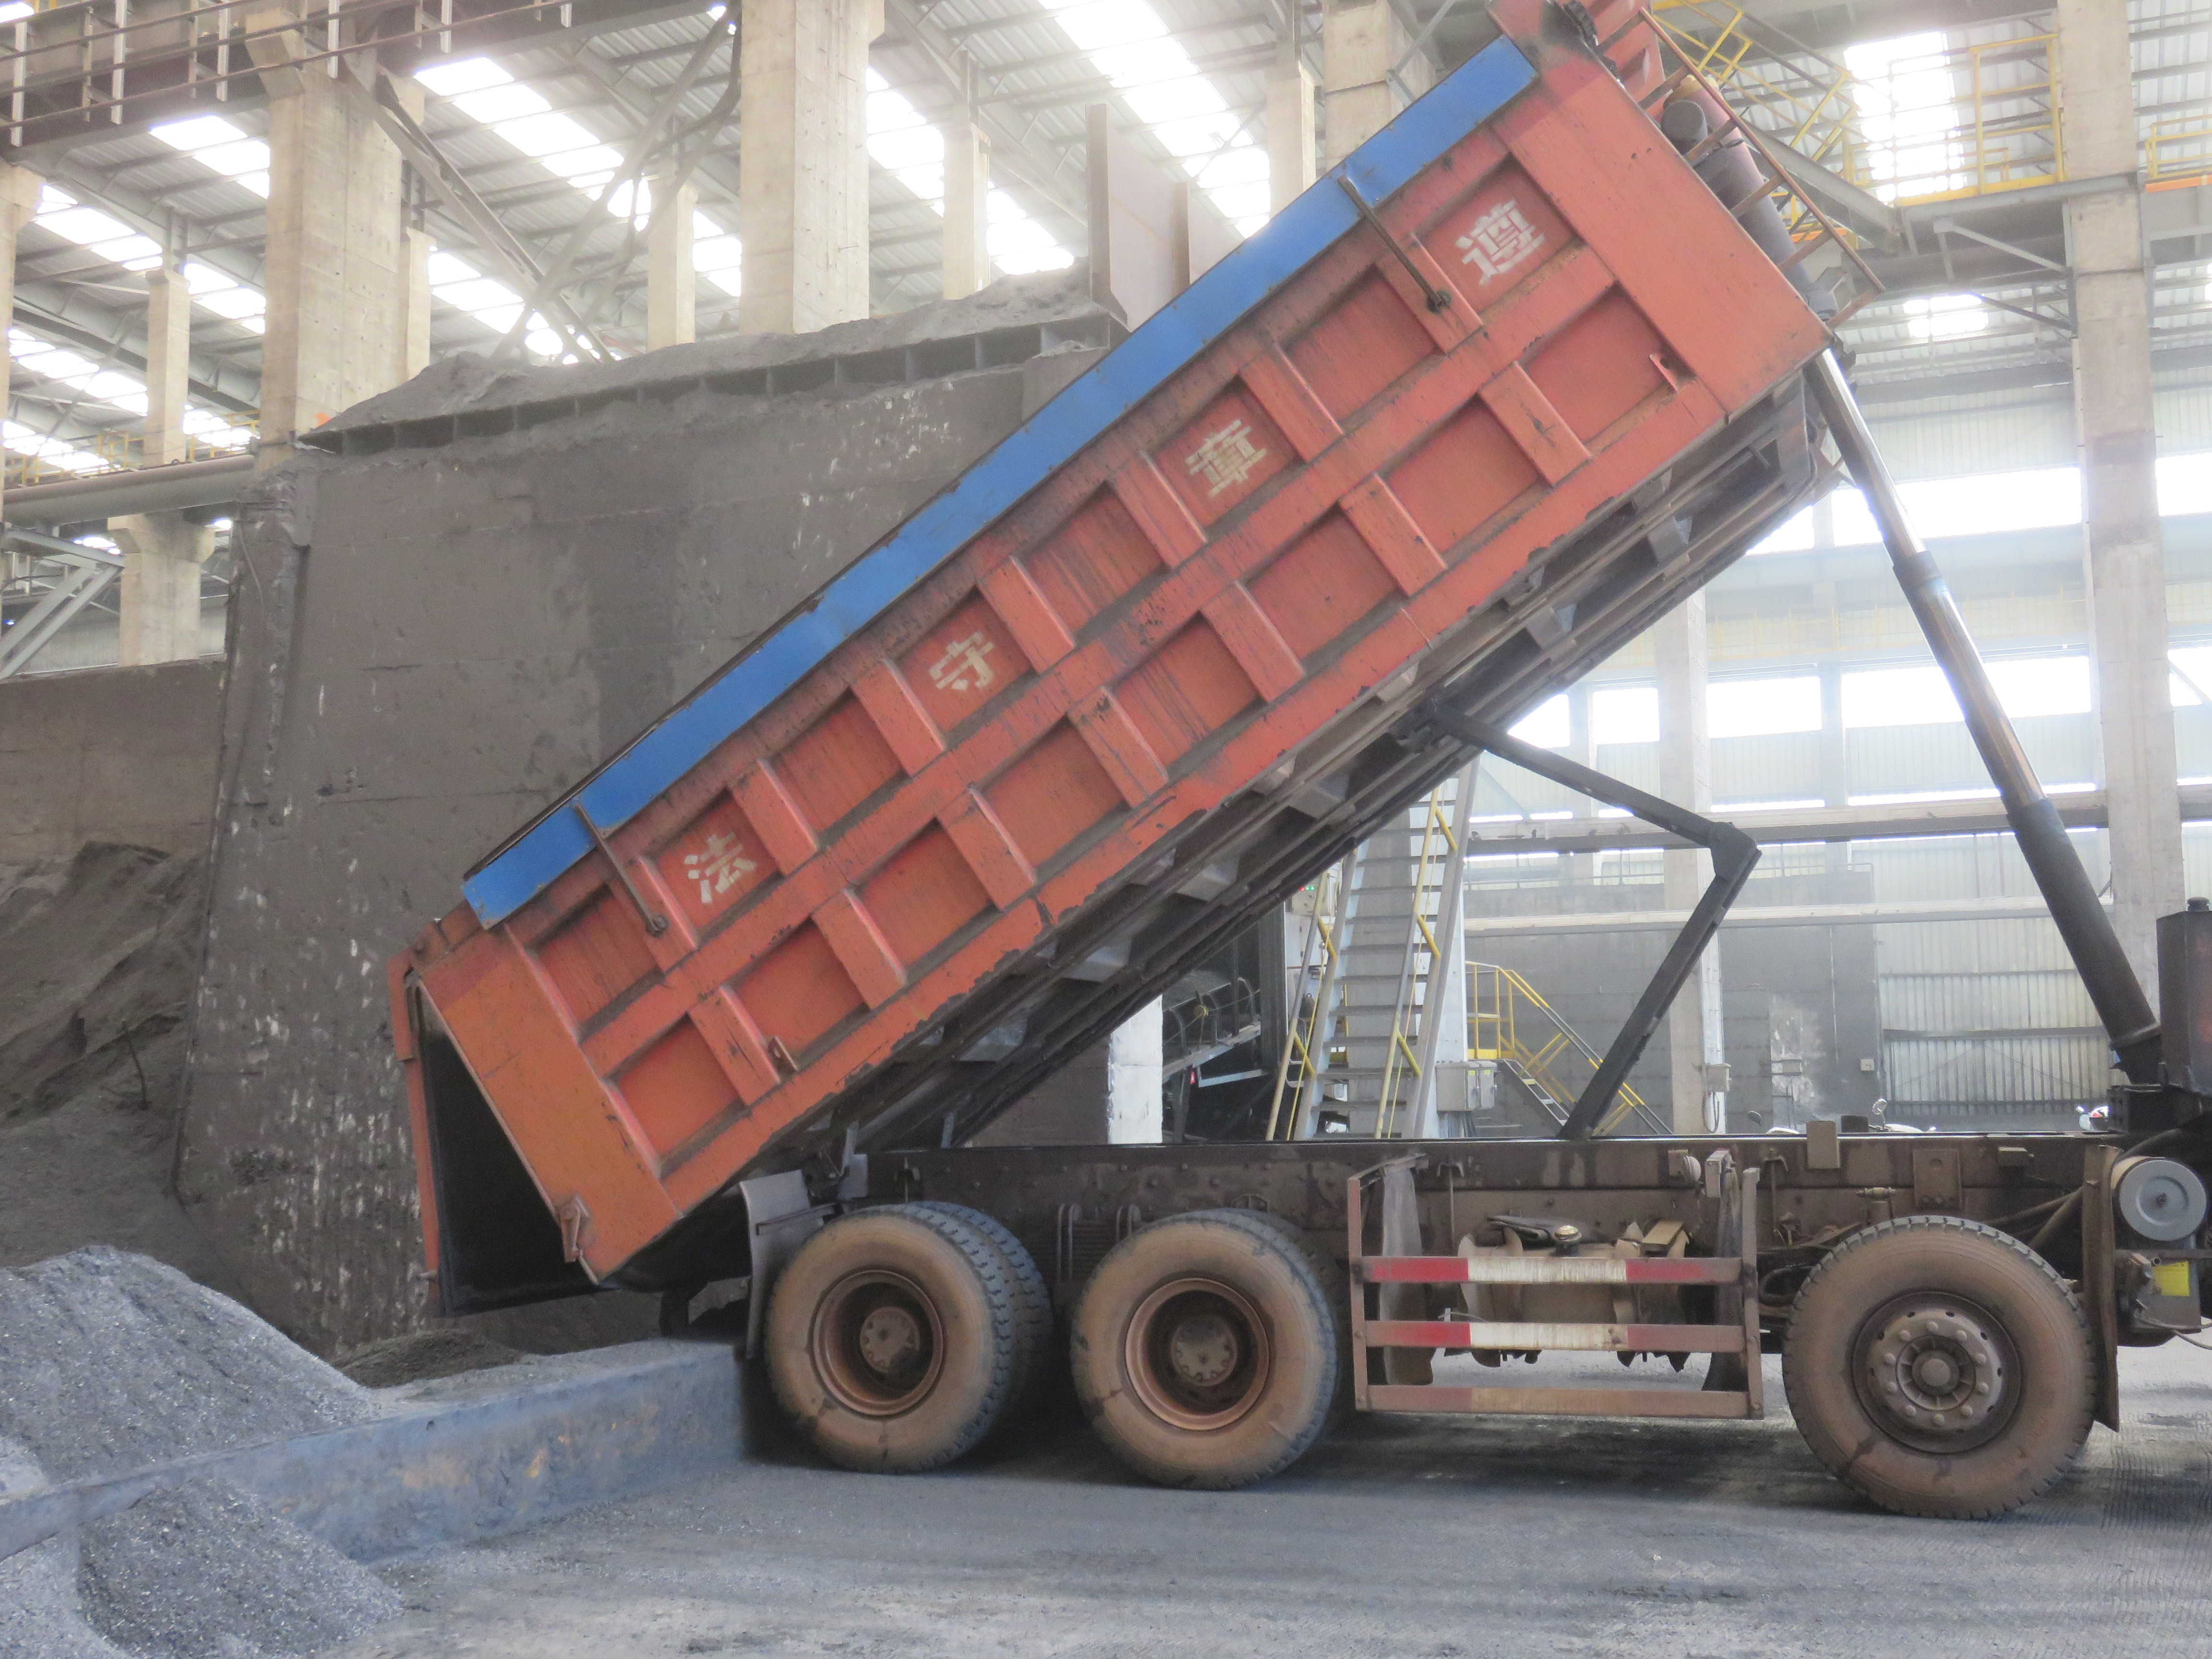truck: (352, 35, 2212, 1534)
